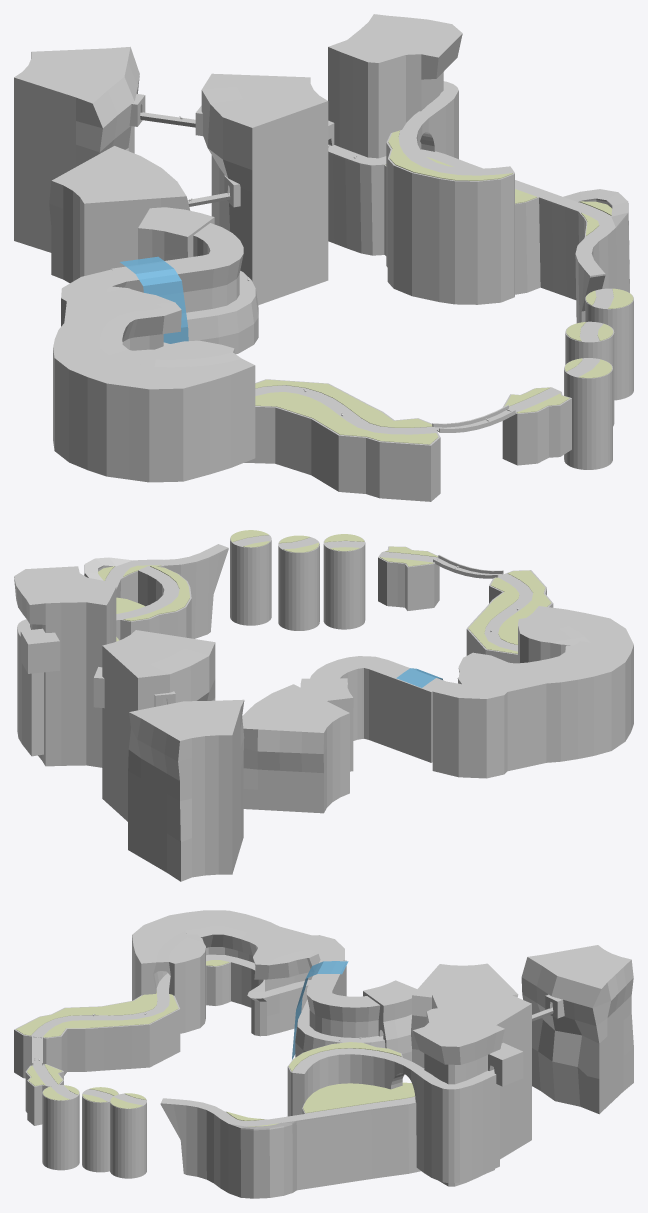
Rendered from LD 2 - Canyon track v03.fbx.
3 renders of one model, top to bottom at view 1: azimuth 30°, elevation 25°; view 2: azimuth 150°, elevation 25°; view 3: azimuth 270°, elevation 25°, orthographic. The views are drawn at different scales.
Parts seen in each view (by area): view 1: Cube.010, Cube, Cube.017, Cube.019, Cube.004, Cube.021, Cube.007, Cube.003, Cube.006, Cylinder, Cube.013, Cube.008 (+7 smaller); view 2: Cube.010, Cube.004, Cube.021, Cube.003, Cube, Cube.006, Cube.017, Cube.019, Cylinder, Cylinder.001, Cylinder.002, Cube.008 (+6 smaller); view 3: Cube.019, Cube.010, Cube.004, Cube.017, Cube.007, Cube.006, Cube, Cube.021, Cube.003, Cylinder, Cylinder.002, Cube.013 (+7 smaller).
Boxes of the visible parts, x1,y1,x2,y2 form: Cube.010: [53, 269, 255, 482]; Cube: [201, 73, 328, 305]; Cube.017: [386, 81, 514, 304]; Cube.019: [328, 144, 629, 323]; Cube.004: [14, 46, 139, 252]; Cube.021: [328, 14, 462, 158]; Cube.007: [244, 379, 440, 501]; Cube.003: [49, 146, 190, 282]; Cube.006: [111, 207, 258, 354]; Cylinder: [564, 358, 612, 469]; Cube.013: [255, 379, 437, 444]; Cube.008: [502, 387, 571, 465]; Cube.010: [432, 606, 633, 778]; Cube.004: [128, 699, 244, 881]; Cube.021: [14, 566, 116, 767]; Cube.003: [242, 684, 349, 813]; Cube: [102, 630, 215, 821]; Cube.006: [300, 656, 446, 771]; Cube.017: [17, 566, 191, 756]; Cube.019: [84, 544, 228, 638]; Cylinder: [323, 536, 365, 629]; Cylinder.001: [278, 537, 319, 630]; Cylinder.002: [230, 535, 271, 625]; Cube.008: [378, 546, 439, 610]; Cube.019: [160, 1098, 420, 1198]; Cube.010: [132, 910, 344, 1036]; Cube.004: [521, 945, 633, 1114]; Cube.017: [287, 1042, 499, 1183]; Cube.007: [14, 994, 180, 1078]; Cube.006: [295, 960, 416, 1061]; Cube: [432, 990, 531, 1159]; Cube.021: [412, 1003, 504, 1186]; Cube.003: [411, 963, 518, 1068]; Cylinder: [42, 1085, 79, 1170]; Cylinder.002: [110, 1093, 146, 1178]; Cube.013: [16, 991, 178, 1037].
Size of the model in its own units: 9331 by 3258 by 11096.
